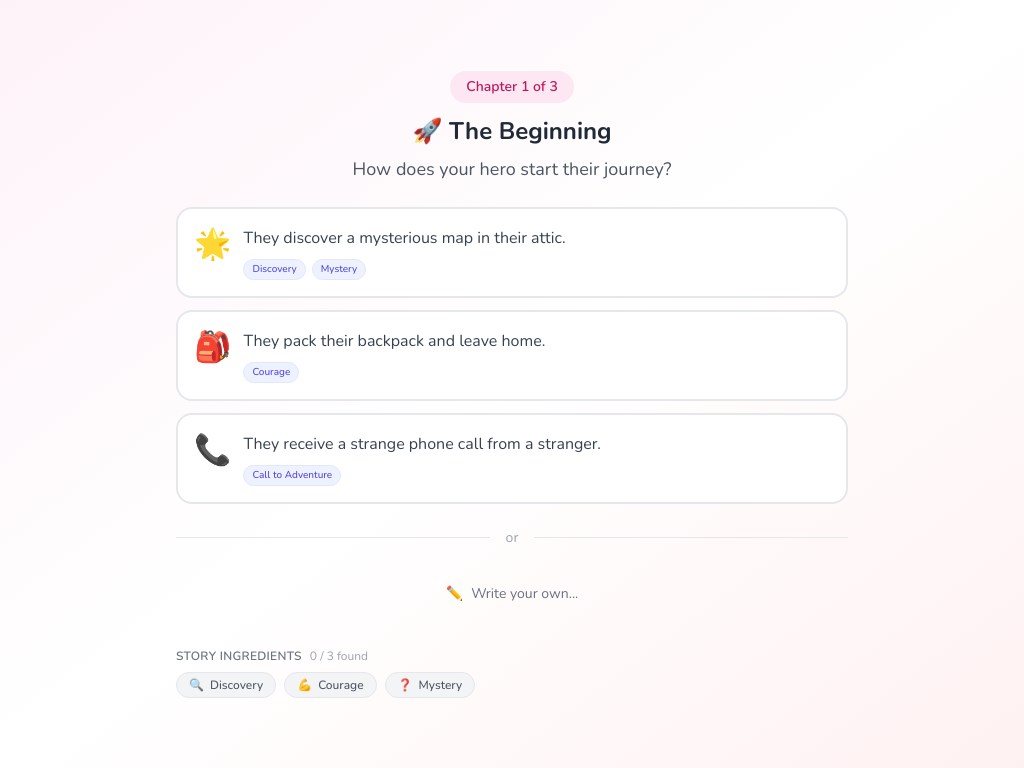
Test case: ChapterScreen › shows custom input when "Write your own..." is clicked
Click the text "Write your own..." at {"x": 525, "y": 594}, box [471,584,578,604]
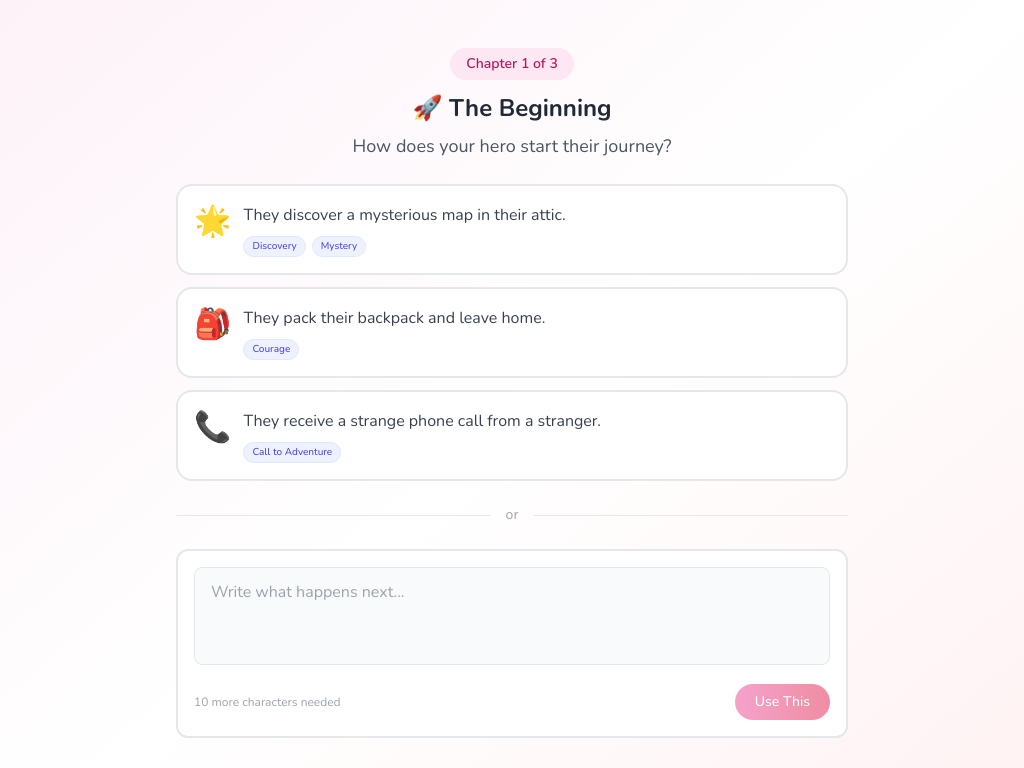
expect the text box with placeholder "Write what happens next..." is shown: met, box [194,567,830,665]
expect the button "Use This" is shown: met, box [735,684,830,720]
